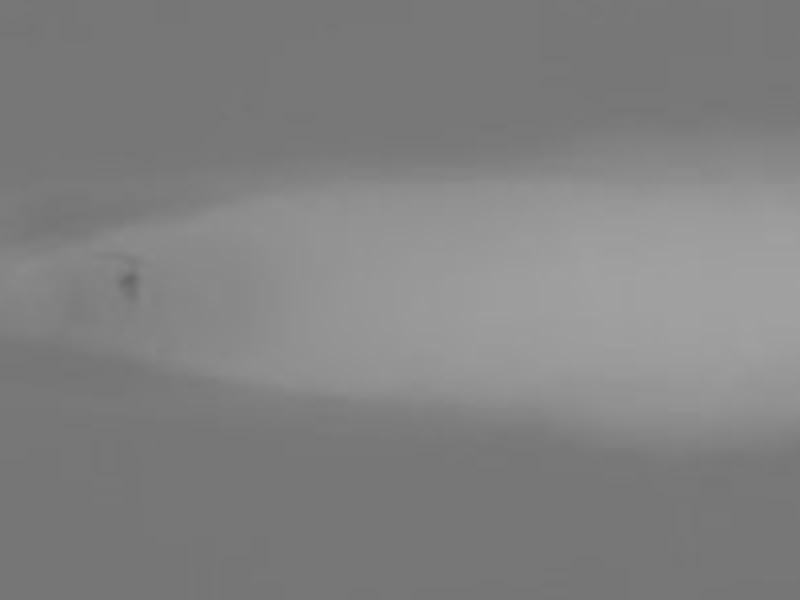defect: (117, 272, 141, 302)
